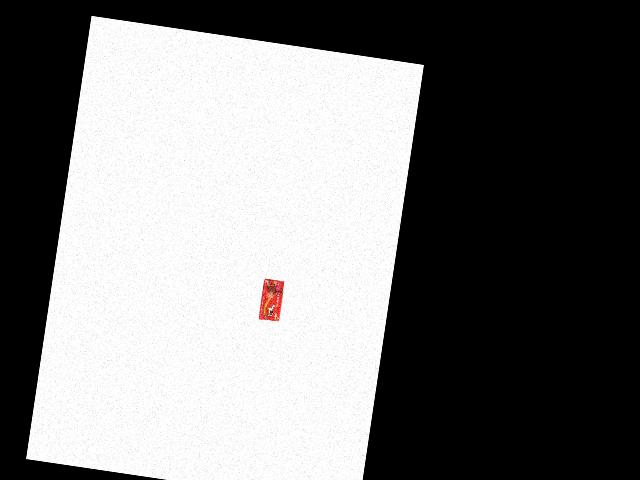chocolate: (256, 277, 284, 324)
